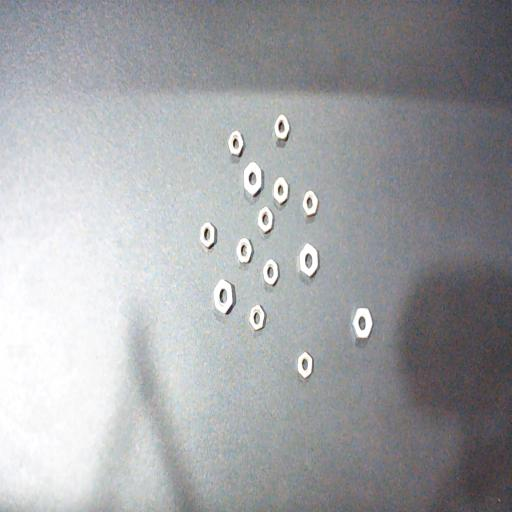nut: (214, 279, 236, 315), (243, 162, 263, 197), (299, 242, 318, 278), (353, 307, 373, 339), (228, 130, 244, 157), (273, 177, 289, 204), (236, 237, 252, 264), (200, 222, 216, 249), (258, 206, 273, 234), (274, 115, 290, 141), (298, 352, 312, 380), (250, 305, 265, 331), (264, 259, 279, 285), (303, 190, 318, 216)
